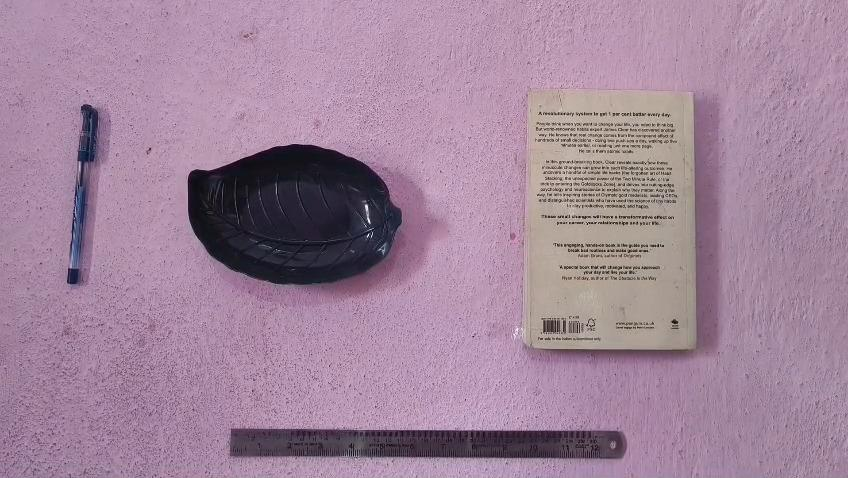scale: (468, 0, 848, 334)
